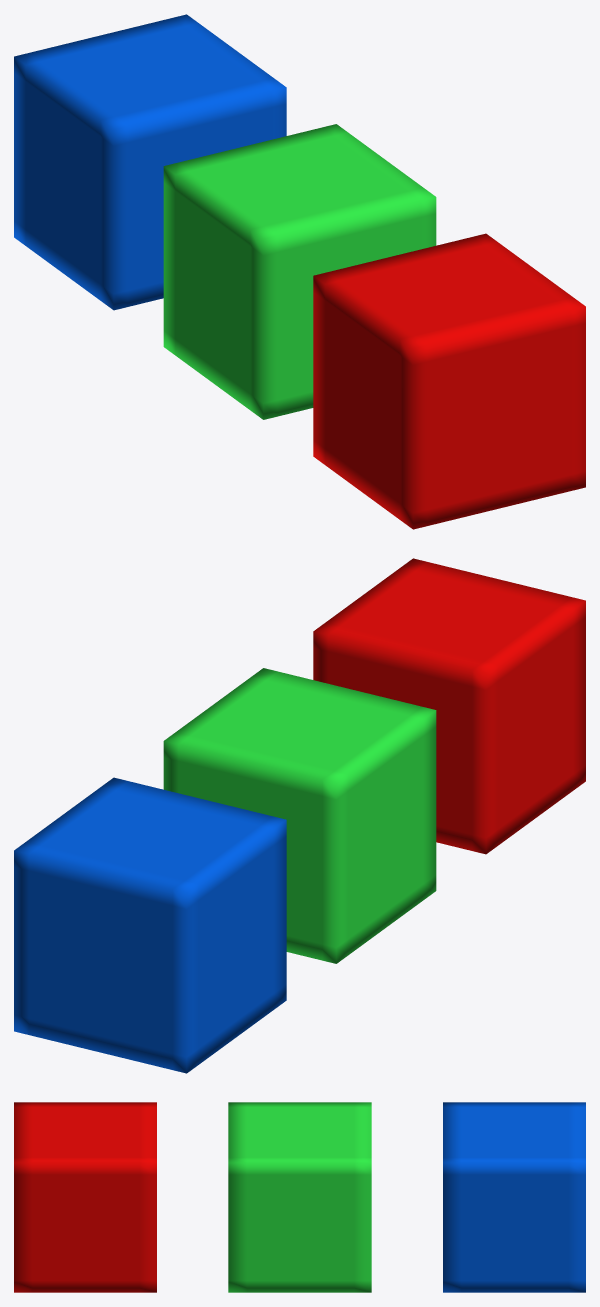
3 views of the same model, one above another, from view 1: azimuth 30°, elevation 25°; view 2: azimuth 150°, elevation 25°; view 3: azimuth 270°, elevation 25° (orthographic). The views are drawn at different scales.
Parts seen in each view (by area): view 1: Cube.002, Cube, Cube.001; view 2: Cube.001, Cube, Cube.002; view 3: Cube, Cube.001, Cube.002.
Boxes of the visible parts, bbox=[...] form: Cube.002: bbox=[313, 233, 585, 529]; Cube: bbox=[163, 124, 436, 419]; Cube.001: bbox=[14, 14, 286, 310]; Cube.001: bbox=[14, 777, 286, 1073]; Cube: bbox=[163, 668, 436, 963]; Cube.002: bbox=[313, 558, 585, 854]; Cube: bbox=[228, 1102, 371, 1292]; Cube.001: bbox=[443, 1102, 585, 1292]; Cube.002: bbox=[14, 1102, 156, 1292].
Size of the model in its own units: 1 by 1 by 4.
